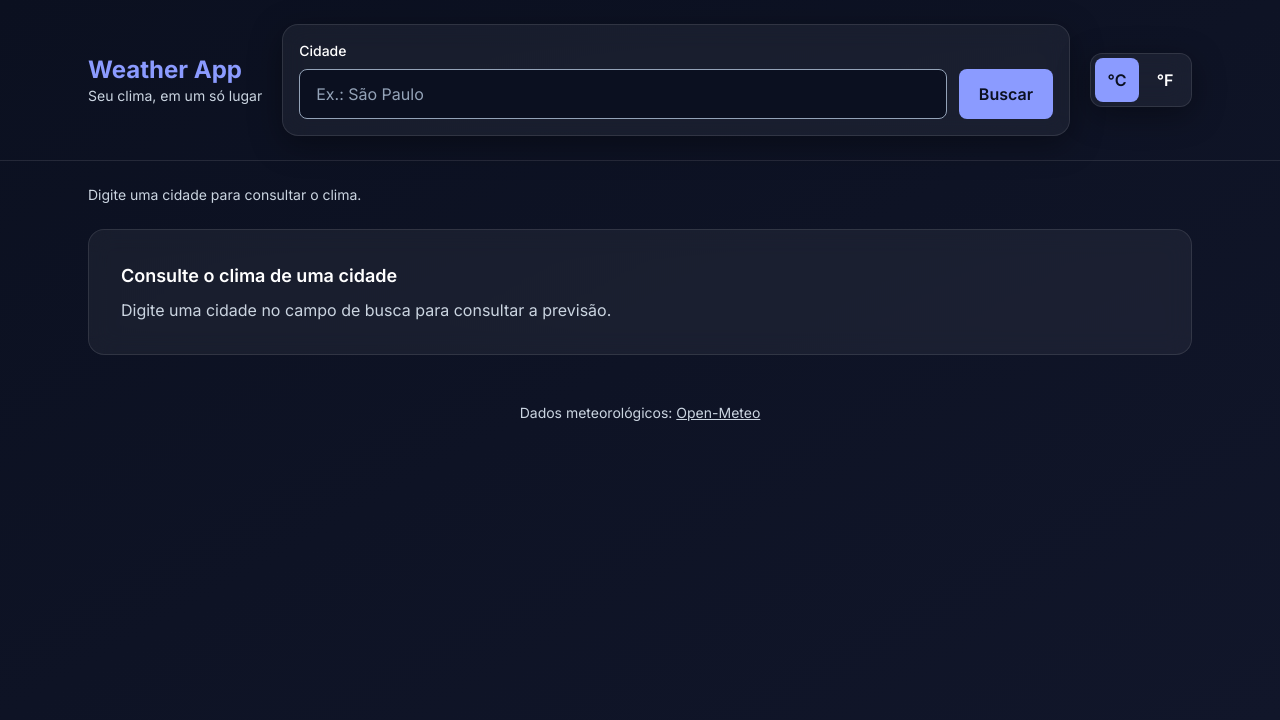
Test: App integrado › busca dados, mantém foco, troca unidade e não refaz requests para conversão
Type " São Paulo " into the search field at (623, 94), box [299,69,947,119]
Then press Enter
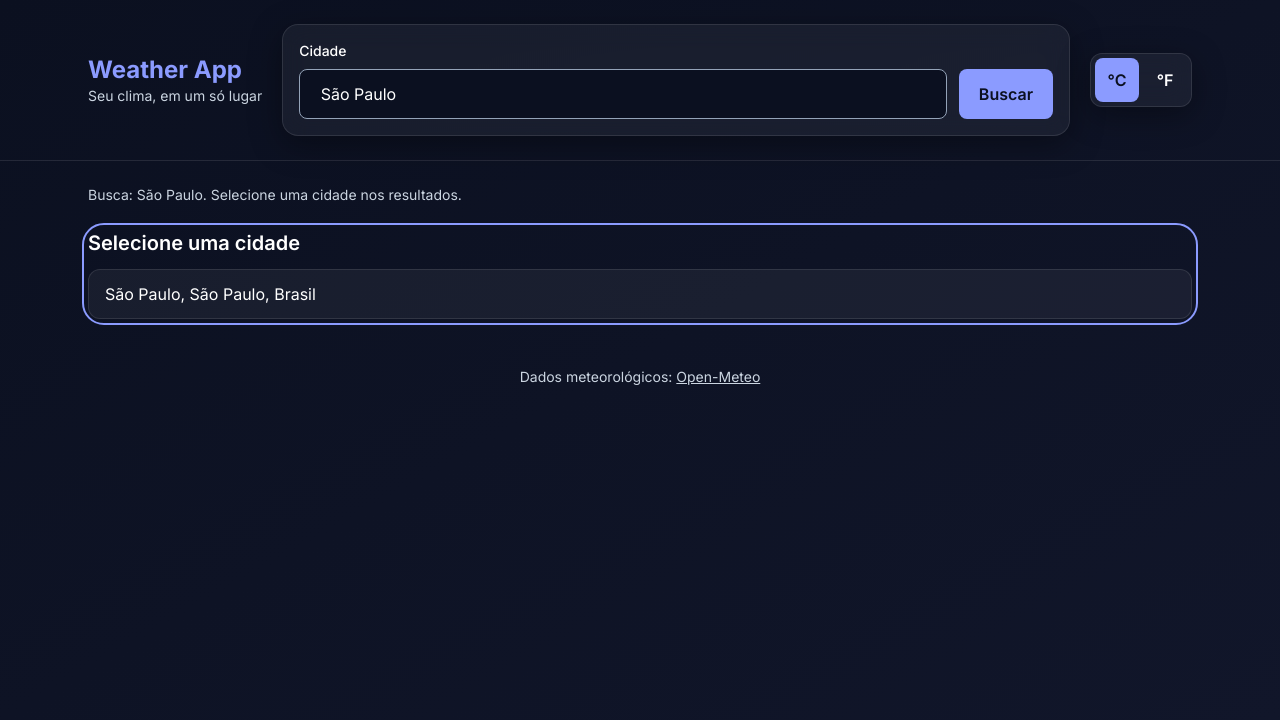
Click the button "São Paulo, São Paulo, Brasil" at (210, 294), box [88,269,1192,319]
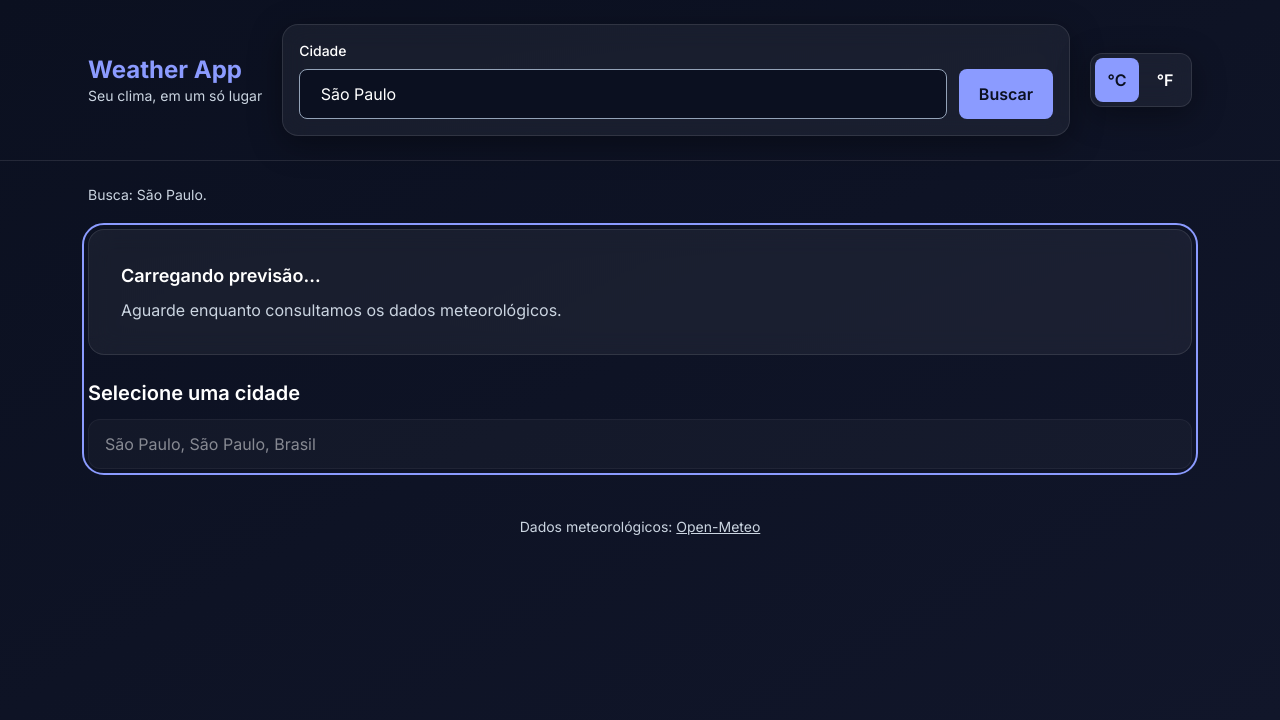
Expected: the search field is enabled, [299,69,947,119]
Result: the message "Carregando previsão… Aguarde enquanto consultamos os dados meteorológicos." is shown at [88,229,1192,355]
Click the button "°F" at (1165, 80), box [1143,58,1187,102]
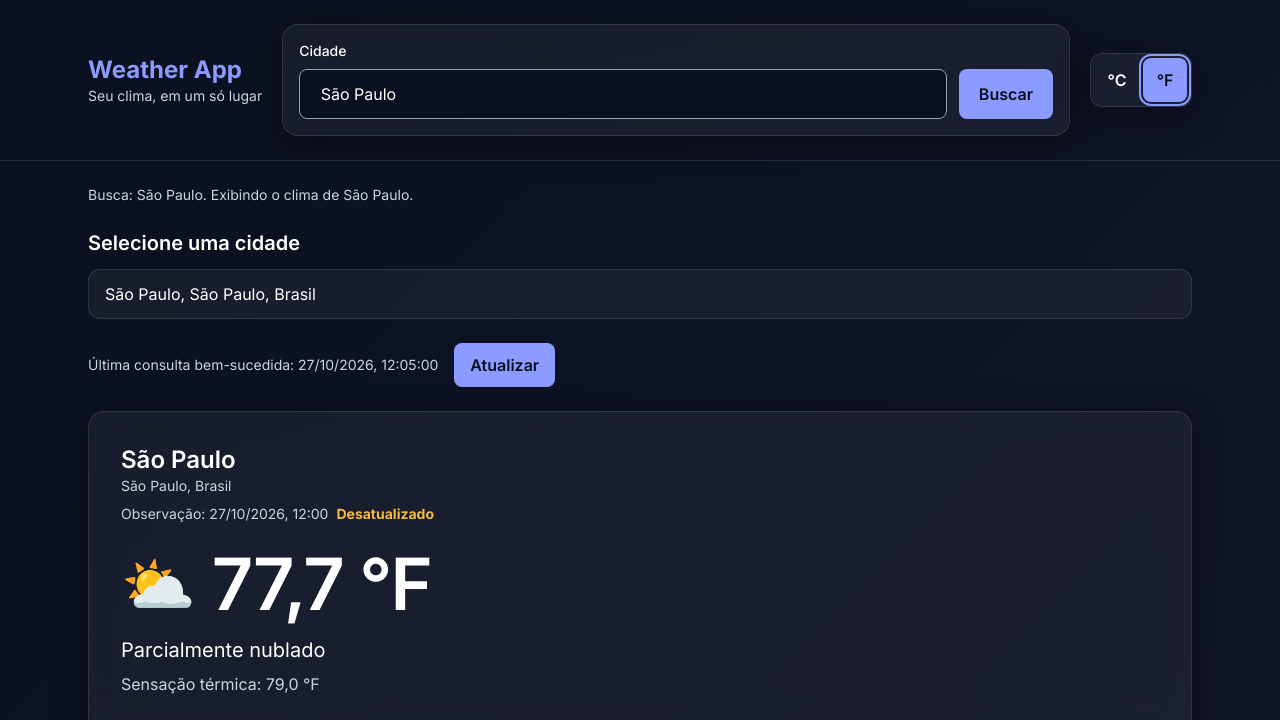
Result: the text "77,7 °F" is shown at [212,548,431,620]
Click the button "°C" at (1117, 80), box [1095,58,1139,102]
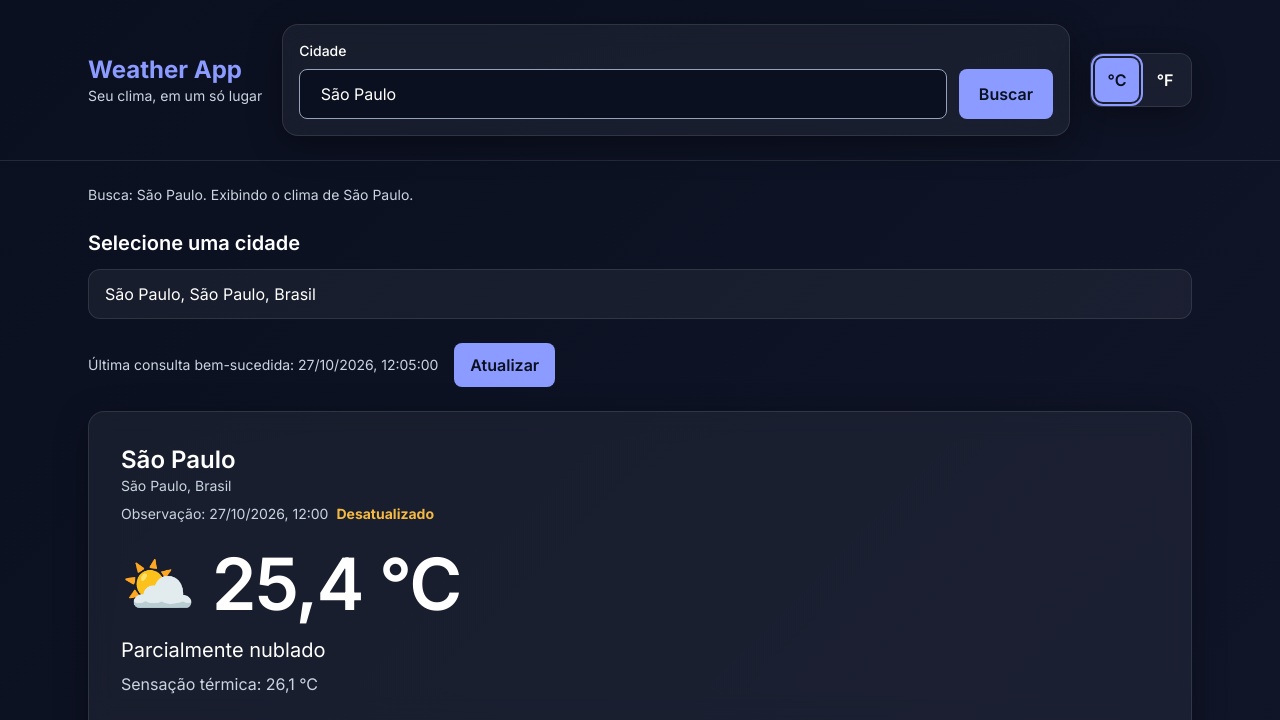
Result: the text "25,4 °C" is shown at [212,548,460,620]
